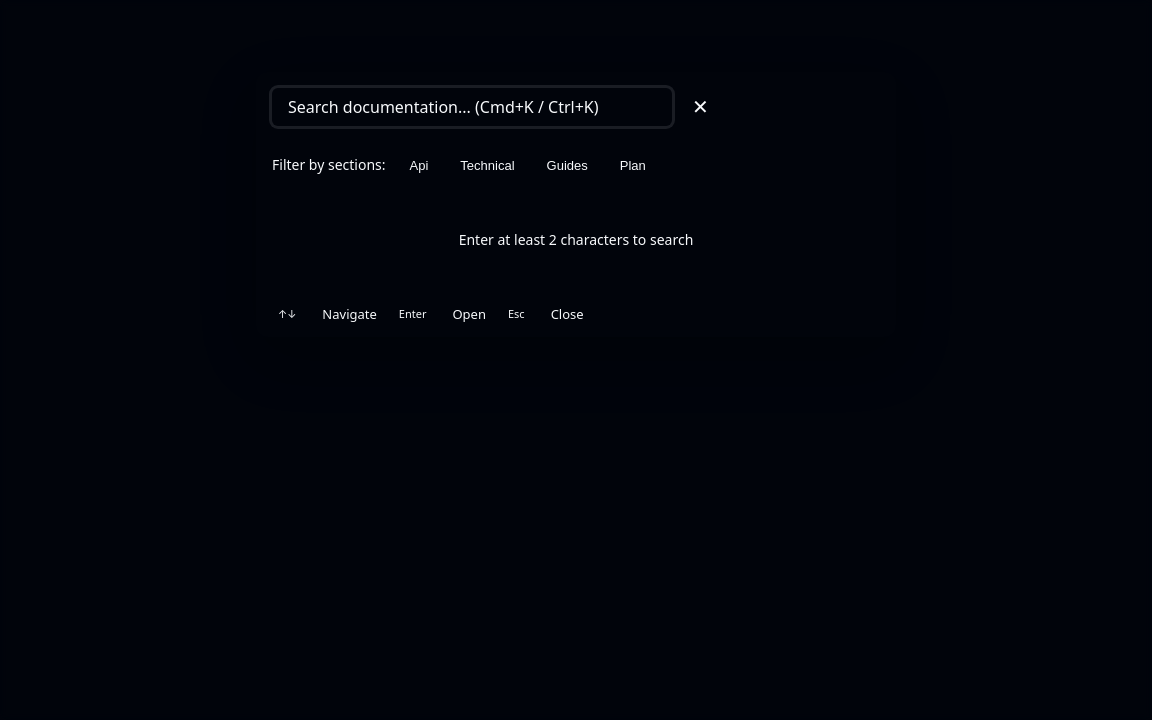
it: SearchModal › should display no results message for non-matching query
Type "nonexistent" into the field with placeholder "Search documentation... (Cmd+K / Ctrl+K)" at (472, 107), box [272, 88, 672, 126]
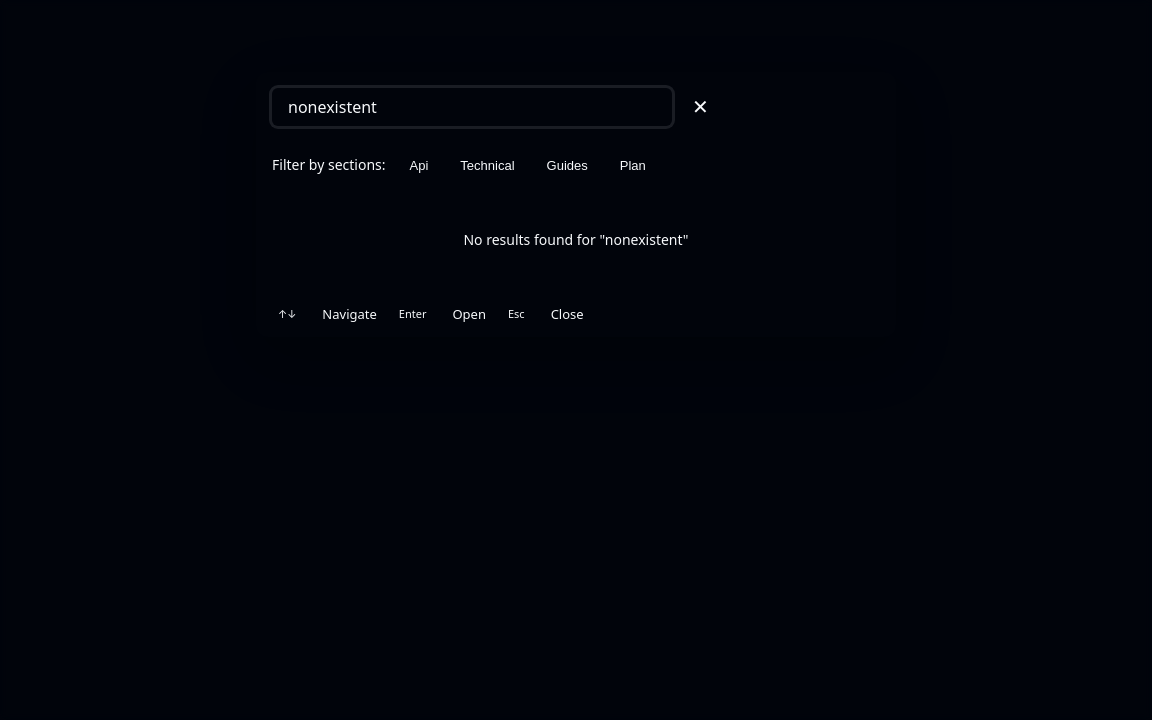
Now the text "No results found for \"nonexistent\"" is shown, box [463, 230, 688, 249]
